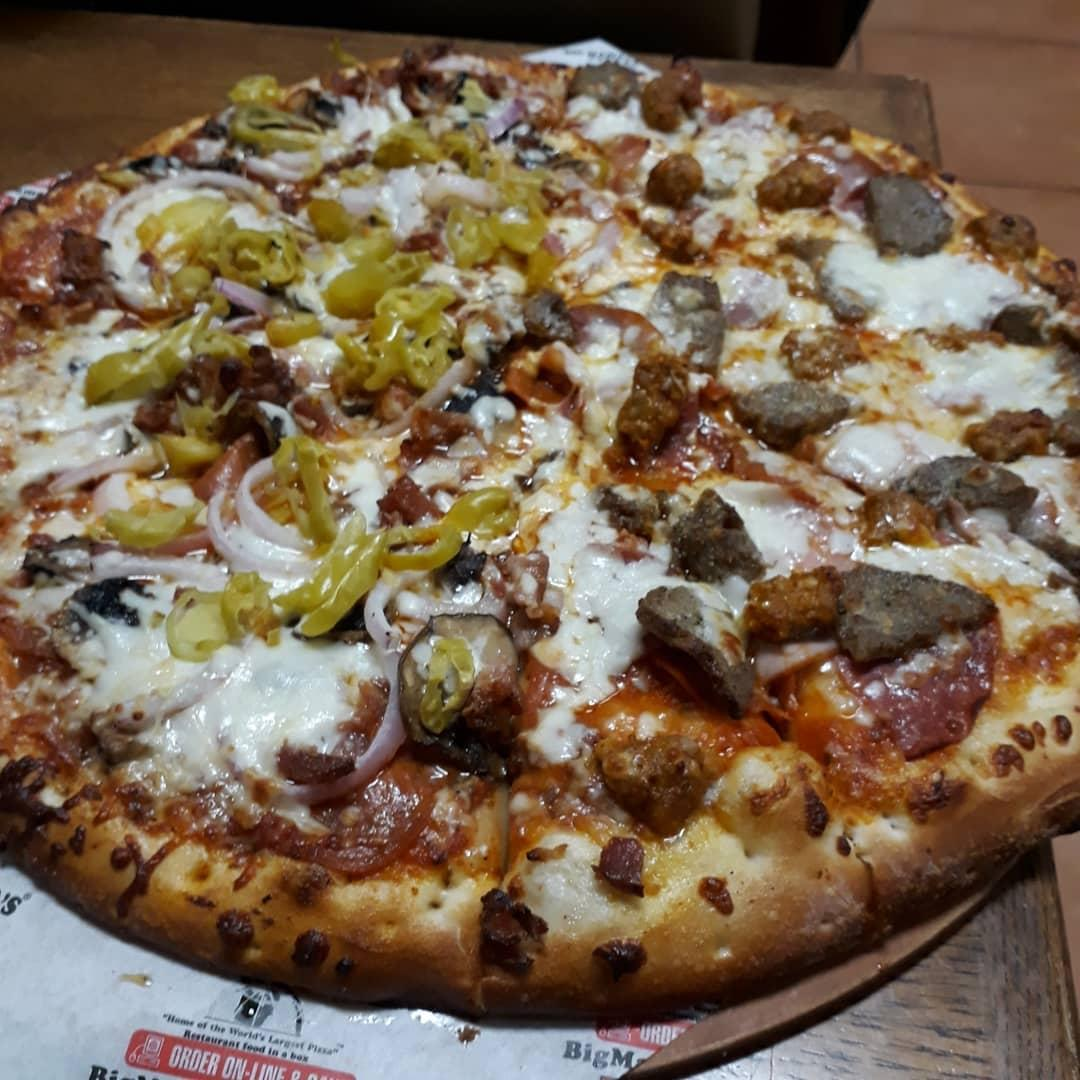Chicken: (578, 688, 751, 836), (134, 351, 287, 442), (745, 564, 844, 641), (618, 354, 690, 458), (638, 62, 707, 138), (965, 405, 1054, 460), (755, 154, 836, 214), (784, 322, 863, 380), (970, 207, 1039, 262), (646, 154, 699, 205)
Onion: (333, 609, 403, 801), (98, 170, 281, 216), (212, 500, 316, 578), (485, 97, 531, 142)
Peppers: (261, 508, 392, 643), (333, 286, 458, 396), (71, 312, 211, 410), (156, 565, 279, 670), (160, 211, 307, 297), (309, 227, 430, 323), (265, 433, 340, 548), (434, 200, 544, 271), (357, 521, 474, 577), (223, 80, 313, 152), (366, 120, 487, 173), (173, 393, 241, 468), (448, 482, 522, 538), (251, 295, 324, 348), (189, 315, 248, 363), (516, 249, 559, 288)
Pizza: (0, 62, 1080, 1005)
